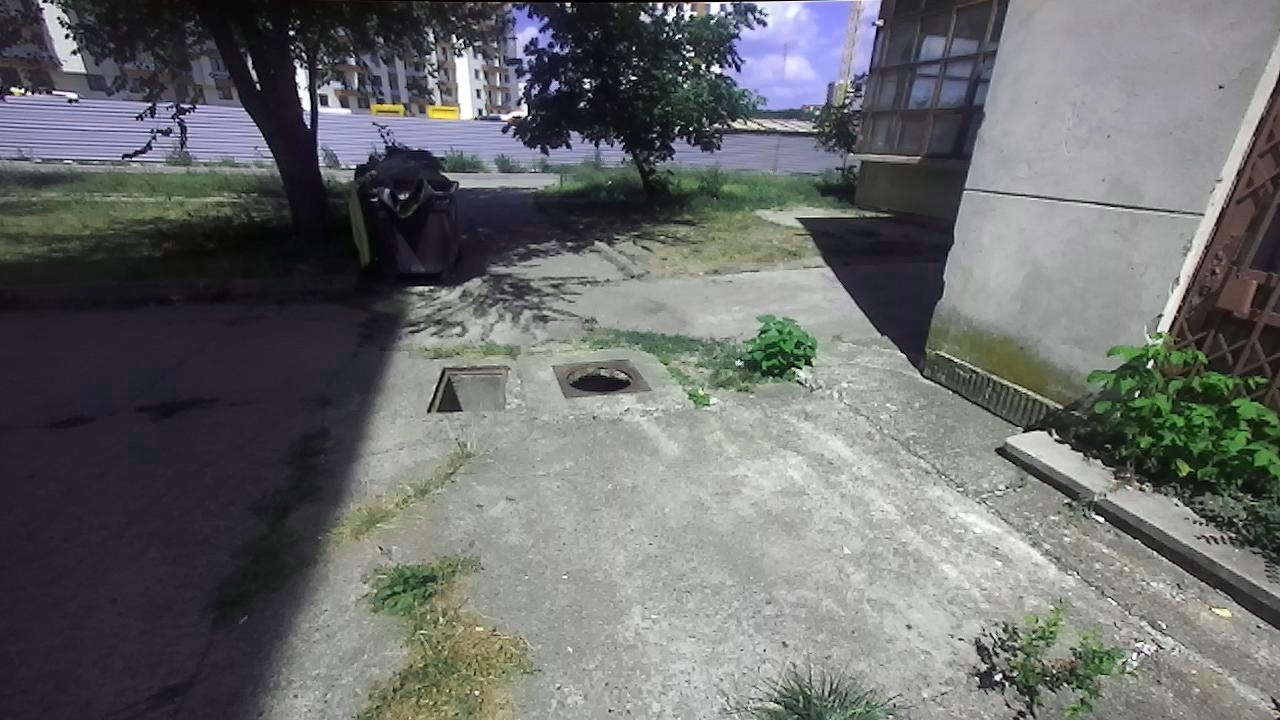drain: (424, 362, 509, 413), (560, 360, 635, 396)
